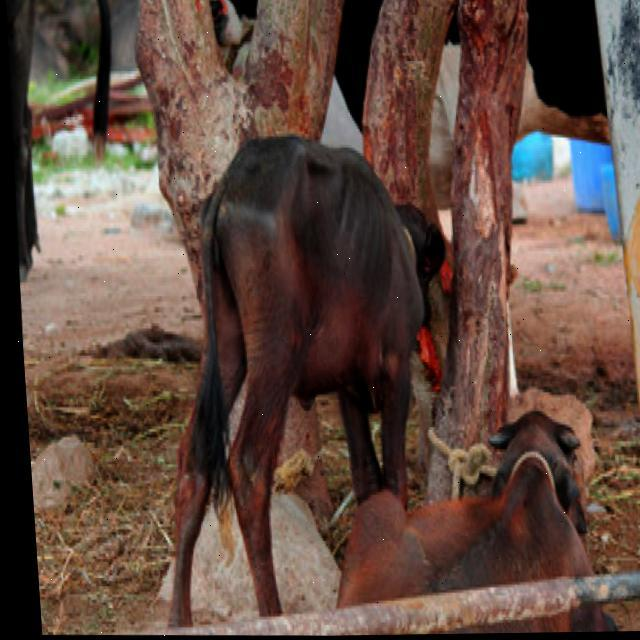Buffalo: (139, 125, 498, 609)
